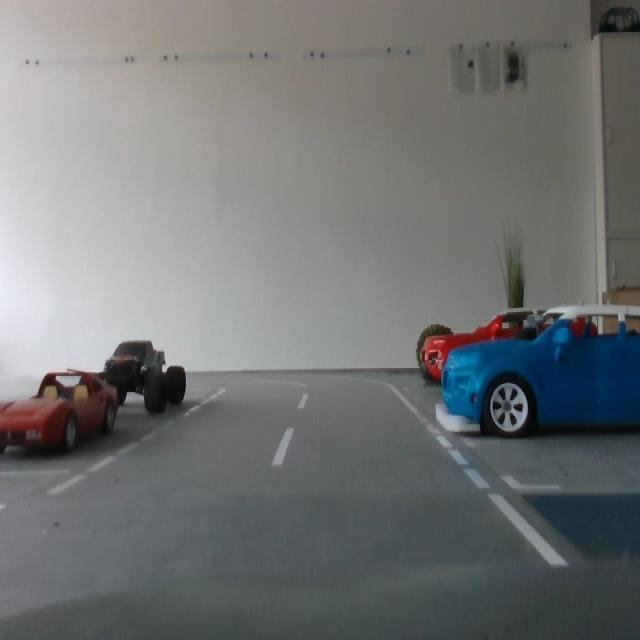car: (442, 304, 640, 438), (1, 369, 119, 456), (420, 308, 551, 384), (99, 341, 189, 417)
potted plant: (495, 225, 528, 367), (417, 322, 457, 376)
